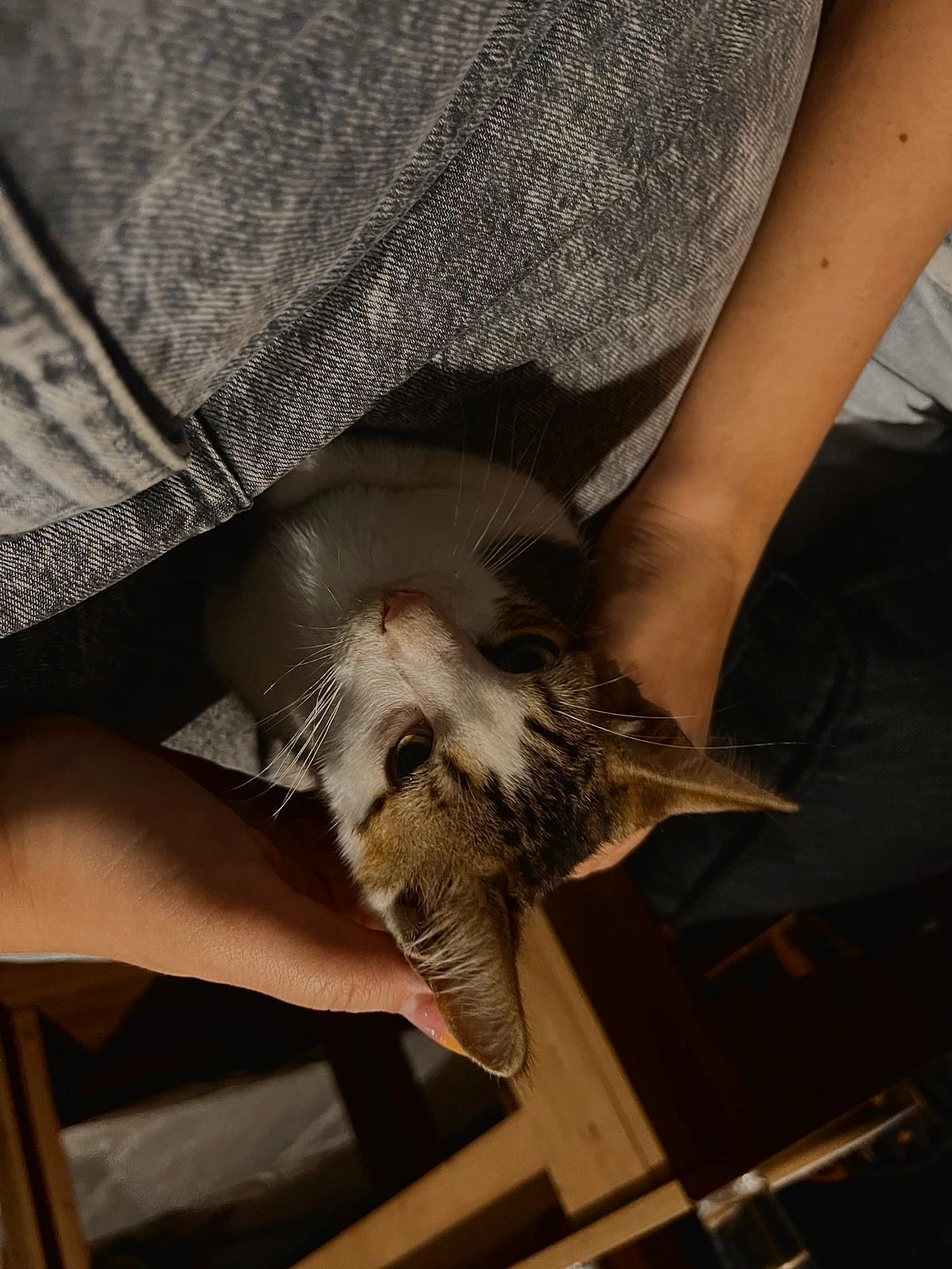macka: (218, 438, 801, 1082)
